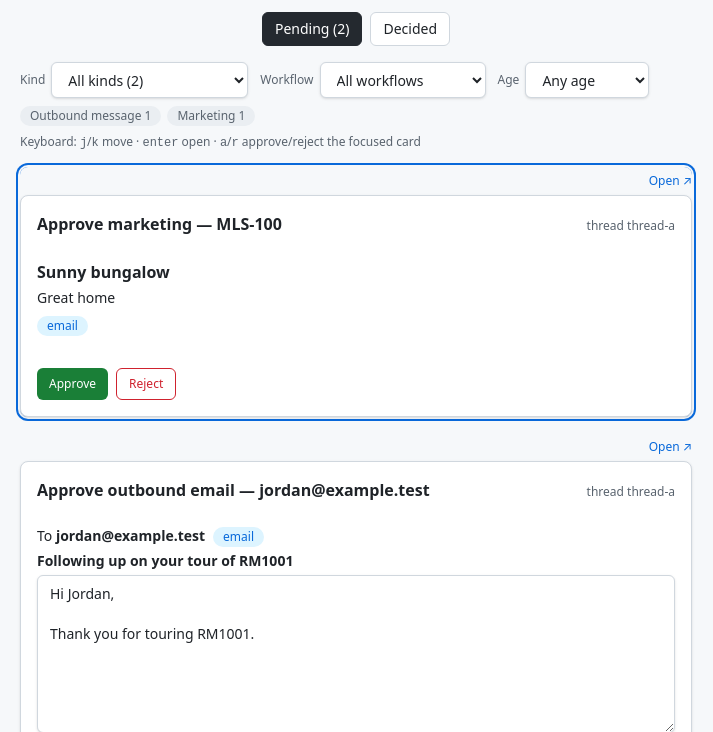
Test: Draft persistence across unmount (BOP-028 review-gate r2) › still blocks a hard unload after a dirty draft is filtered out of view
This screenshot has width=713, height=732.
Replace the text in the text box named "Draft body" with "Draft still in progress." at (356, 654), box [37,575,675,731]
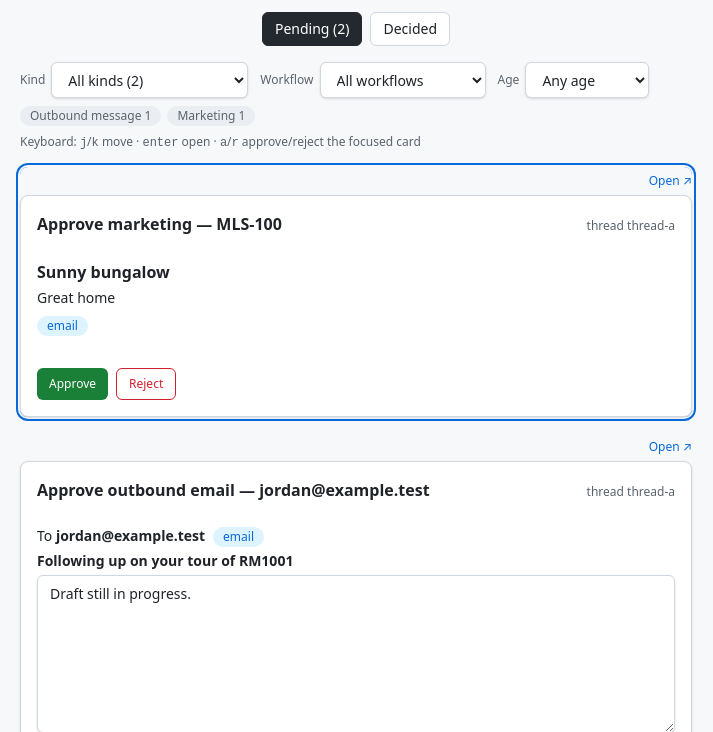
Select "Marketing (1)" in the dropdown labelled "Kind" at (150, 80), box [51,62,248,98]
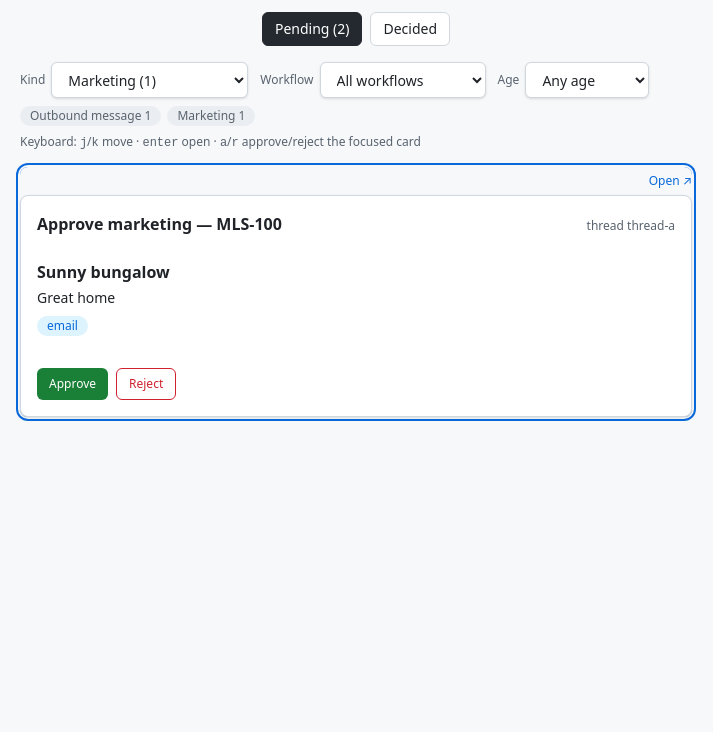
expect the text box labelled "Draft body" is gone: met
